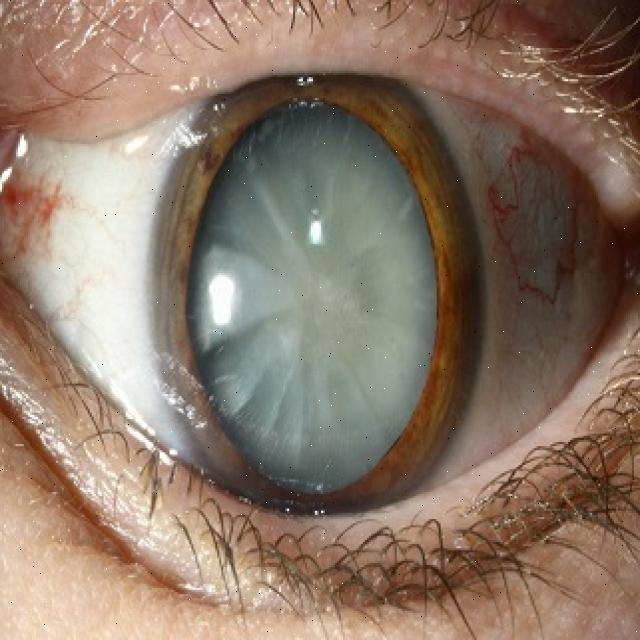Cataract: (154, 54, 480, 564)
